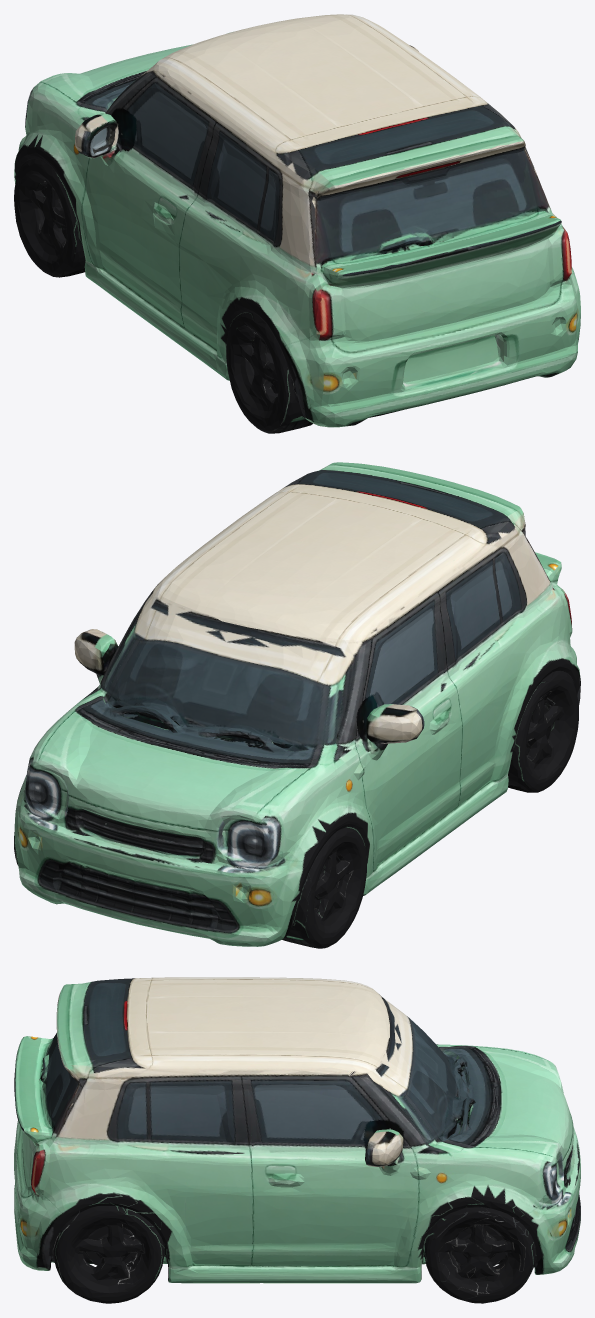
File: kei.glb
3 renders of one model, top to bottom at view 1: azimuth 30°, elevation 25°; view 2: azimuth 150°, elevation 25°; view 3: azimuth 270°, elevation 25°, orthographic. The views are drawn at different scales.
Visible parts, largest first — view 1: kei_tex; view 2: kei_tex; view 3: kei_tex.
Boxes of the visible parts, x1,y1,x2,y2 form: kei_tex: (14, 14, 580, 433); kei_tex: (14, 462, 580, 948); kei_tex: (14, 977, 580, 1303).
Bounding box in the file's own units: 2.75 × 2.01 × 4.5.
Materials: 1 (1 with a texture image).
